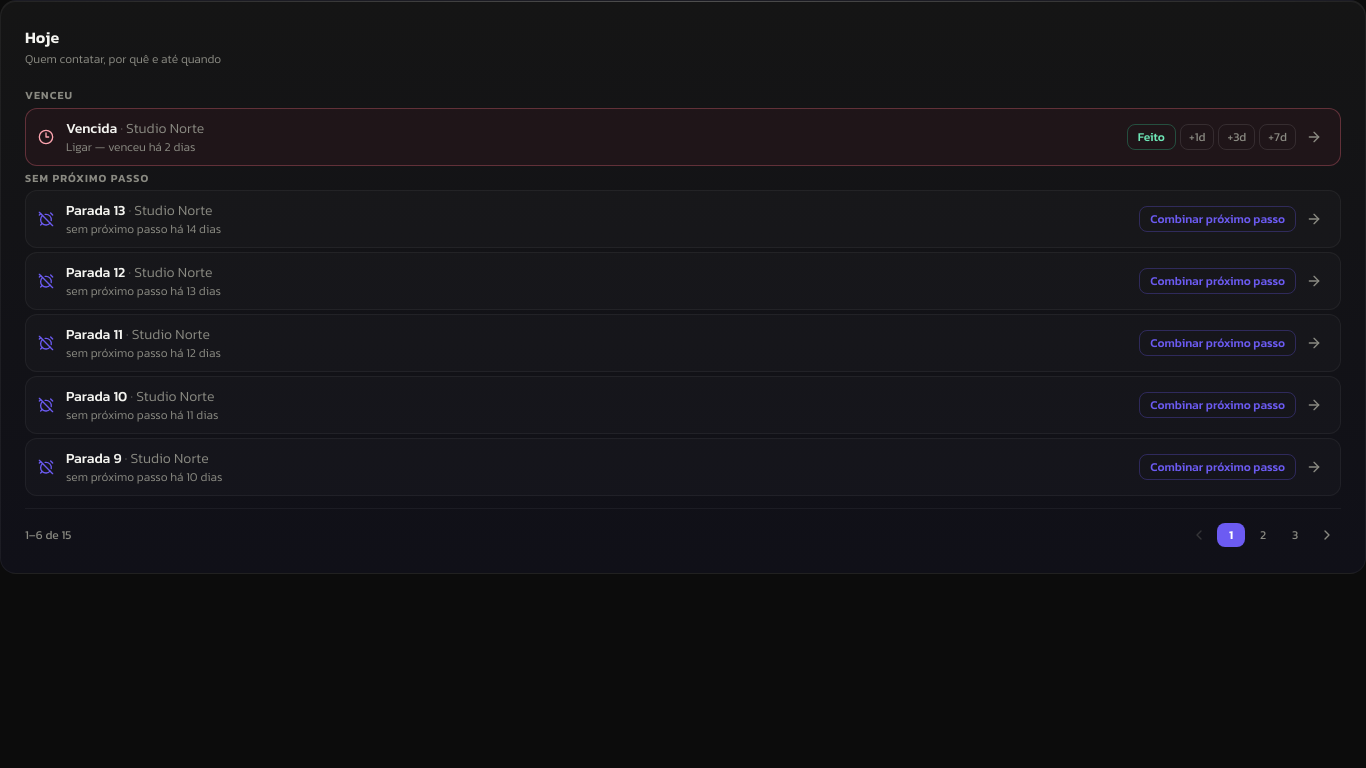
Test: FilaHoje › fila longa vem de 6 em 6, com a seção repetida quando continua na página seguinte
The image size is (1366, 768).
Expected: the number of list items is 6, [25, 87, 1341, 166]; [25, 170, 1341, 248]; [25, 252, 1341, 310]; [25, 314, 1341, 372]; [25, 376, 1341, 434]; [25, 438, 1341, 496]
Expected: the text "1–6 de 15" is shown, [25, 527, 72, 543]
Step 1. Click the button named "Próxima página" → click(1327, 535), box [1313, 521, 1341, 549]
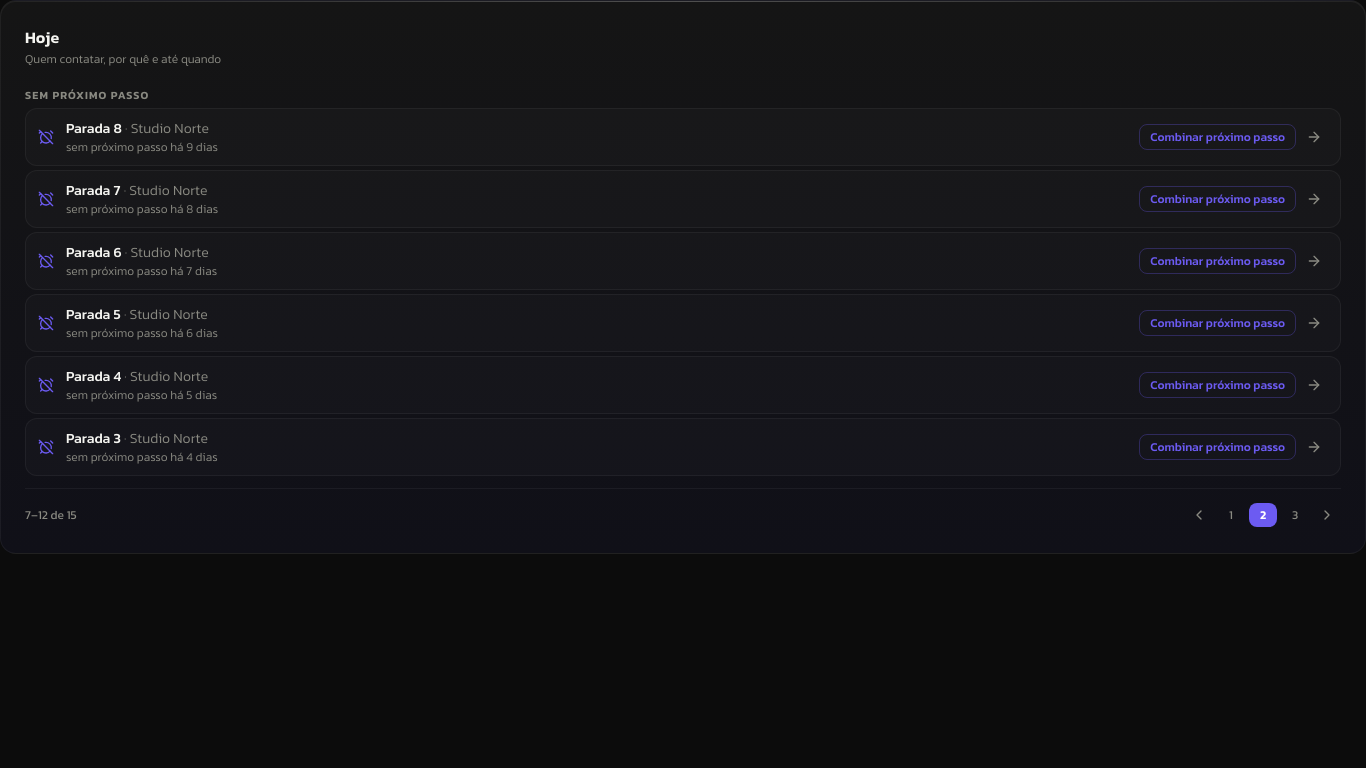
Expected: the text "Sem próximo passo" is shown, [25, 87, 149, 103]
Now the text "7–12 de 15" is shown, box [25, 506, 77, 522]
Now the text "Venceu" is gone
Step 2. Click the button named "Página 3" → click(1295, 514), box [1281, 502, 1309, 526]
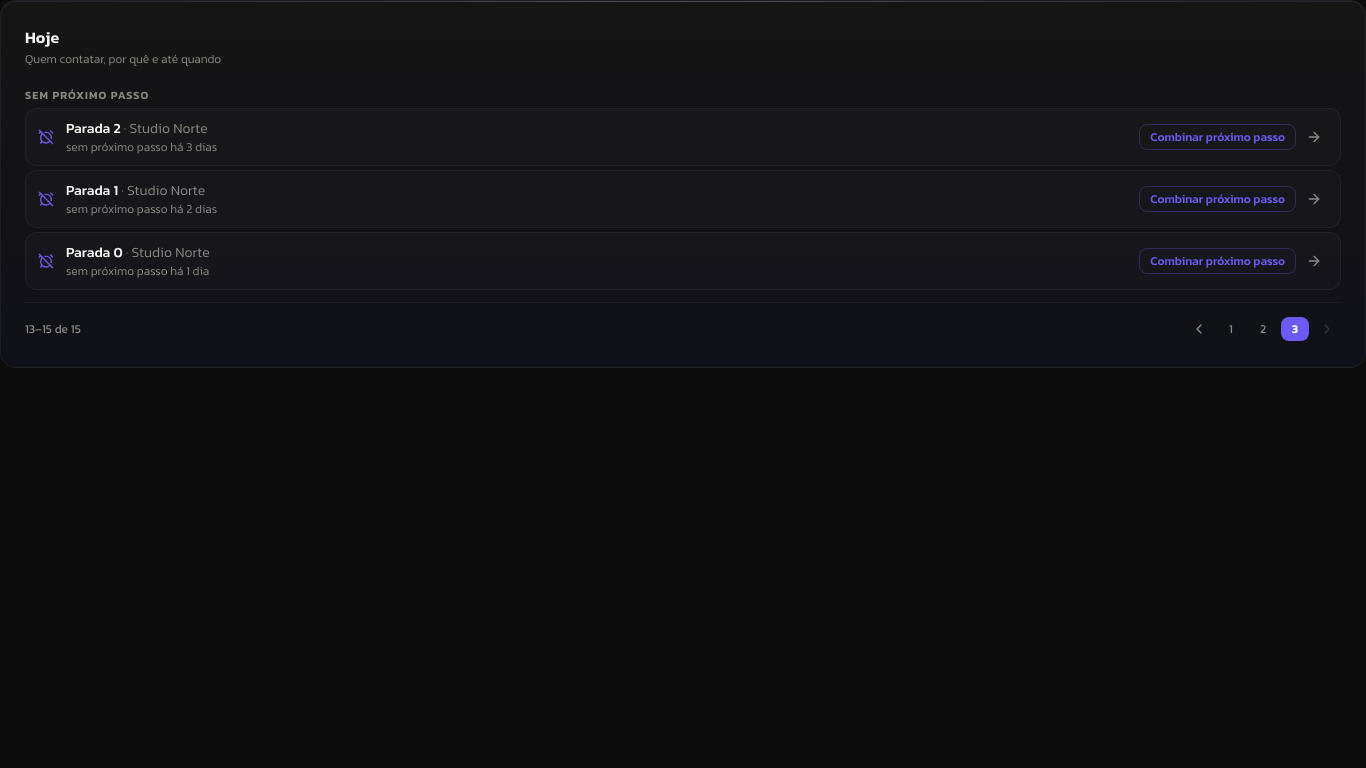
Expected: the button named "Próxima página" is disabled, [1313, 314, 1341, 342]
Now the text "13–15 de 15" is shown, box [25, 320, 81, 336]
Now the number of list items is 3, box [25, 87, 1341, 166]; [25, 170, 1341, 228]; [25, 232, 1341, 290]
